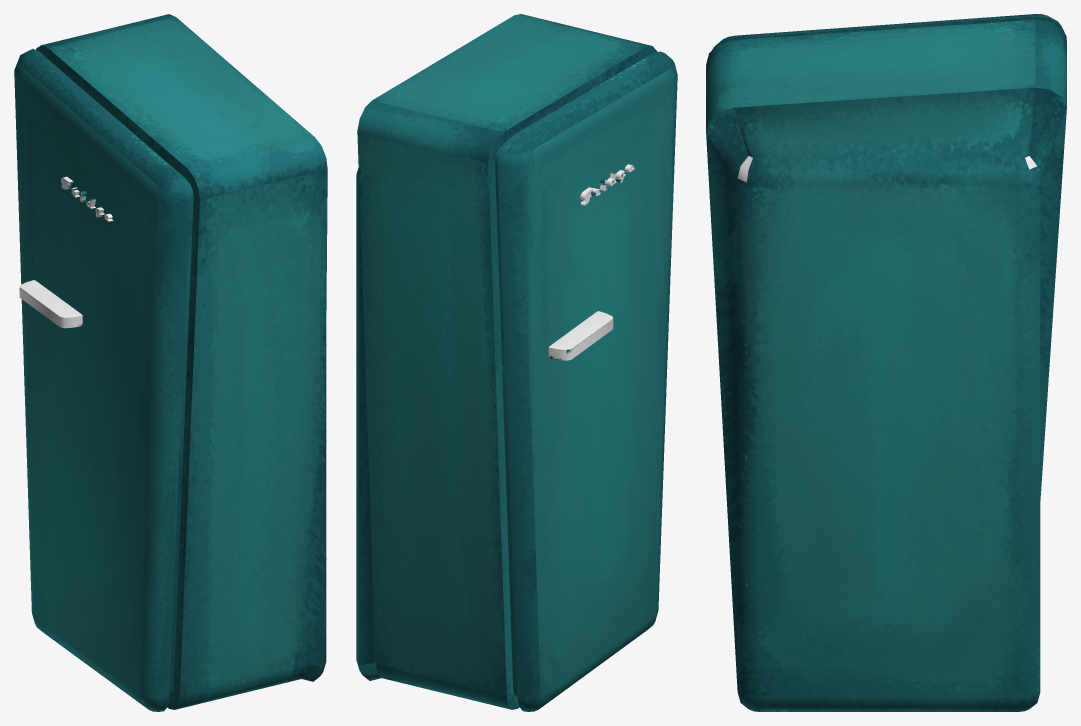
File: fridge_UV.fbx
3 renders of one model, left to right at view 1: azimuth 30°, elevation 25°; view 2: azimuth 150°, elevation 25°; view 3: azimuth 270°, elevation 25°, orthographic. The views are drawn at different scales.
Visible parts, largest first — view 1: fridge_4, fridge_door, fridge; view 2: fridge_4, fridge_door, fridge; view 3: fridge_4, fridge_door.
Part boxes in pixels (x1,y1,x2,y2): fridge_4: [36, 14, 327, 709]; fridge_door: [14, 49, 189, 711]; fridge: [61, 176, 113, 221]; fridge_4: [356, 14, 657, 709]; fridge_door: [497, 51, 677, 711]; fridge: [580, 164, 634, 205]; fridge_4: [706, 20, 1066, 711]; fridge_door: [712, 14, 1066, 49].
Size of the model in its own units: 77.35 by 216 by 114.
